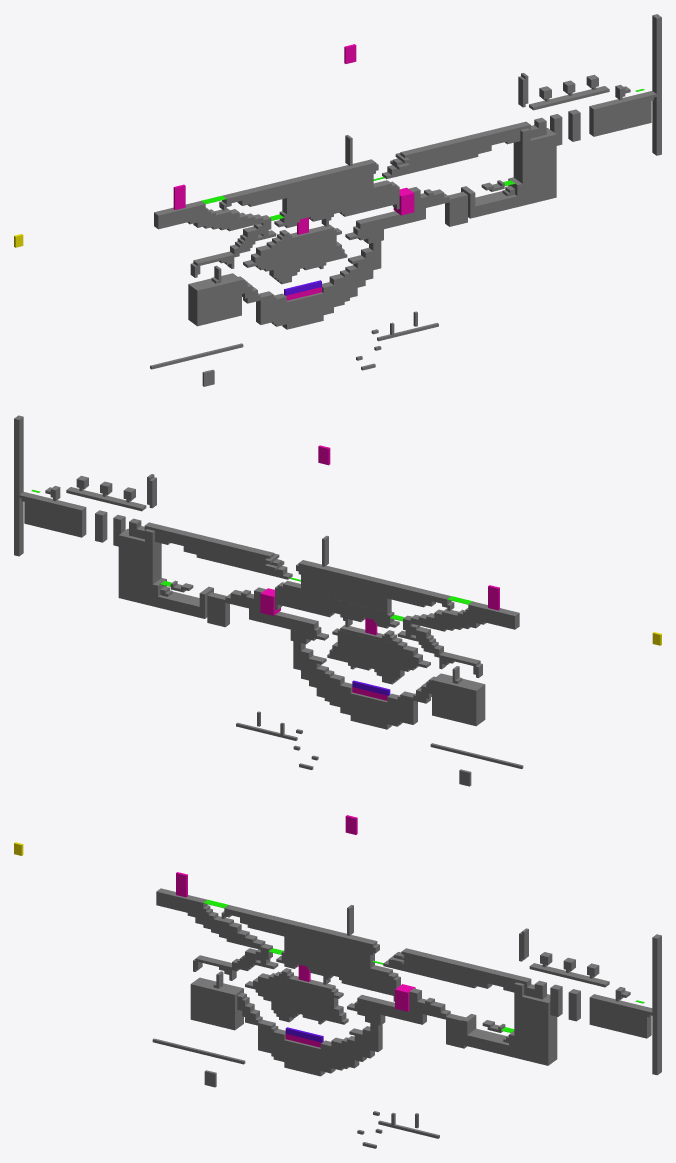
File: Ground.fbx
The picture shows the model from 3 angles, top to bottom: view 1: azimuth 30°, elevation 25°; view 2: azimuth 150°, elevation 25°; view 3: azimuth 330°, elevation 25°; orthographic projection.
Visible parts, largest first — view 1: CubePrefab__152_, CubePrefab__61_, CubePrefab__5_, CubePrefab__3_, CubePrefab__78_, CubePrefab__38_, CubePrefab__179_, CubePrefab__1_, CubePrefab__2_, CubePrefab__55_, CubePrefab__23_, CubePrefab__6_ (+4 smaller); view 2: CubePrefab__152_, CubePrefab__61_, CubePrefab__5_, CubePrefab__3_, CubePrefab__78_, CubePrefab__38_, CubePrefab__179_, CubePrefab__1_, CubePrefab__55_, CubePrefab__2_, CubePrefab__23_, CubePrefab__6_ (+4 smaller); view 3: CubePrefab__3_, CubePrefab__152_, CubePrefab__61_, CubePrefab__5_, CubePrefab__78_, CubePrefab__38_, CubePrefab__179_, CubePrefab__1_, CubePrefab__23_, CubePrefab__55_, CubePrefab__6_, CubePrefab__62_ (+4 smaller).
Boxes of the visible parts, bbox=[...] form: CubePrefab__152_: bbox=[188, 273, 241, 326]; CubePrefab__61_: bbox=[400, 131, 491, 171]; CubePrefab__5_: bbox=[246, 166, 347, 206]; CubePrefab__3_: bbox=[530, 128, 556, 203]; CubePrefab__78_: bbox=[276, 230, 333, 271]; CubePrefab__38_: bbox=[652, 14, 661, 155]; CubePrefab__179_: bbox=[282, 292, 323, 329]; CubePrefab__1_: bbox=[468, 191, 530, 218]; CubePrefab__2_: bbox=[513, 128, 530, 194]; CubePrefab__55_: bbox=[356, 208, 425, 234]; CubePrefab__23_: bbox=[622, 92, 651, 128]; CubePrefab__6_: bbox=[289, 183, 347, 210]; CubePrefab__152_: bbox=[432, 673, 485, 726]; CubePrefab__61_: bbox=[183, 532, 274, 571]; CubePrefab__5_: bbox=[327, 567, 427, 607]; CubePrefab__3_: bbox=[118, 528, 144, 604]; CubePrefab__78_: bbox=[340, 631, 397, 671]; CubePrefab__38_: bbox=[14, 415, 23, 556]; CubePrefab__179_: bbox=[350, 692, 391, 729]; CubePrefab__1_: bbox=[145, 591, 207, 618]; CubePrefab__55_: bbox=[249, 608, 318, 635]; CubePrefab__2_: bbox=[145, 529, 161, 595]; CubePrefab__23_: bbox=[24, 493, 52, 529]; CubePrefab__6_: bbox=[327, 584, 384, 611]; CubePrefab__3_: bbox=[522, 994, 557, 1065]; CubePrefab__152_: bbox=[190, 977, 243, 1030]; CubePrefab__61_: bbox=[401, 948, 492, 988]; CubePrefab__5_: bbox=[247, 910, 346, 950]; CubePrefab__78_: bbox=[273, 978, 331, 1018]; CubePrefab__38_: bbox=[652, 934, 661, 1075]; CubePrefab__179_: bbox=[284, 1039, 325, 1076]; CubePrefab__1_: bbox=[462, 1028, 521, 1059]; CubePrefab__23_: bbox=[621, 1001, 651, 1038]; CubePrefab__55_: bbox=[357, 995, 426, 1024]; CubePrefab__6_: bbox=[286, 937, 344, 964]; CubePrefab__62_: bbox=[357, 937, 374, 987].
Size of the model in its own units: 24650 by 11912 by 604.
